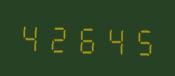five: (126, 21, 152, 58)
four: (18, 17, 44, 54), (99, 20, 125, 57)
six: (72, 19, 98, 56)
two: (45, 18, 71, 55)
